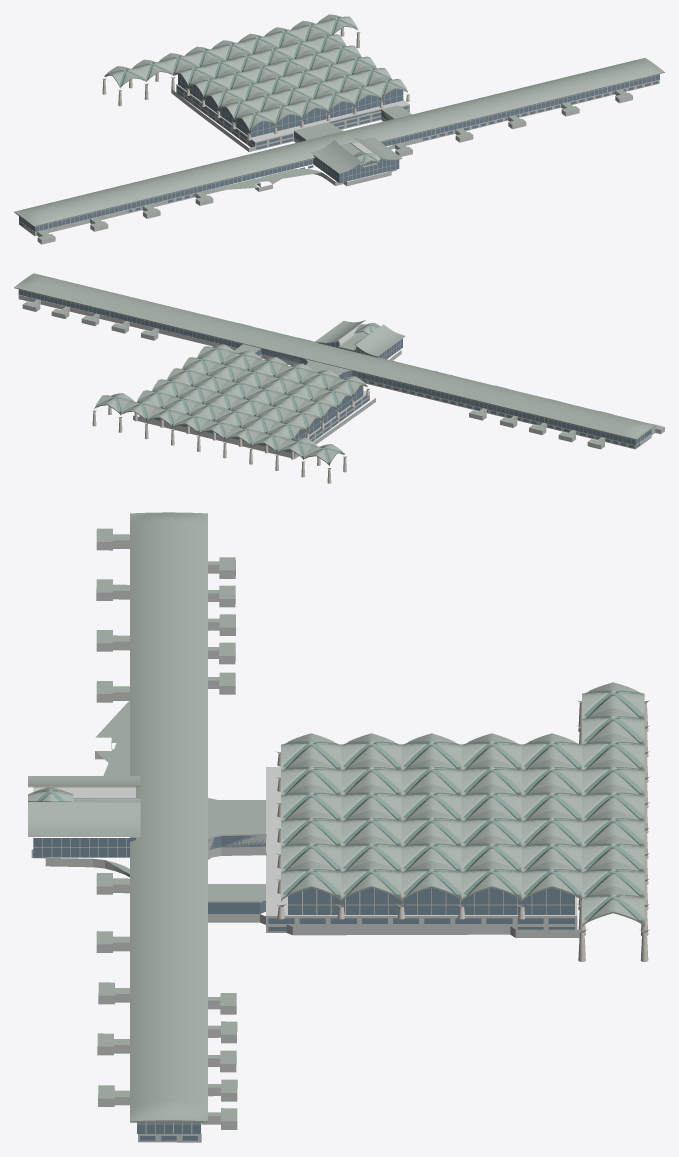
Rendered from kl-klia-terminal-1.detail.glb.
3 views of the same model, one above another, from view 1: azimuth 30°, elevation 25°; view 2: azimuth 150°, elevation 25°; view 3: azimuth 270°, elevation 25° (orthographic). The views are drawn at different scales.
Parts seen in each view (by area): view 1: KLIA Terminal 1 (Main Terminal Building and Contact Pier); view 2: KLIA Terminal 1 (Main Terminal Building and Contact Pier); view 3: KLIA Terminal 1 (Main Terminal Building and Contact Pier).
Part boxes in pixels (x1,y1,x2,y2): KLIA Terminal 1 (Main Terminal Building and Contact Pier): (14, 14, 664, 244); KLIA Terminal 1 (Main Terminal Building and Contact Pier): (14, 273, 664, 483); KLIA Terminal 1 (Main Terminal Building and Contact Pier): (28, 512, 649, 1142).
Bounding box in the file's own units: 918 × 36.2 × 398.
